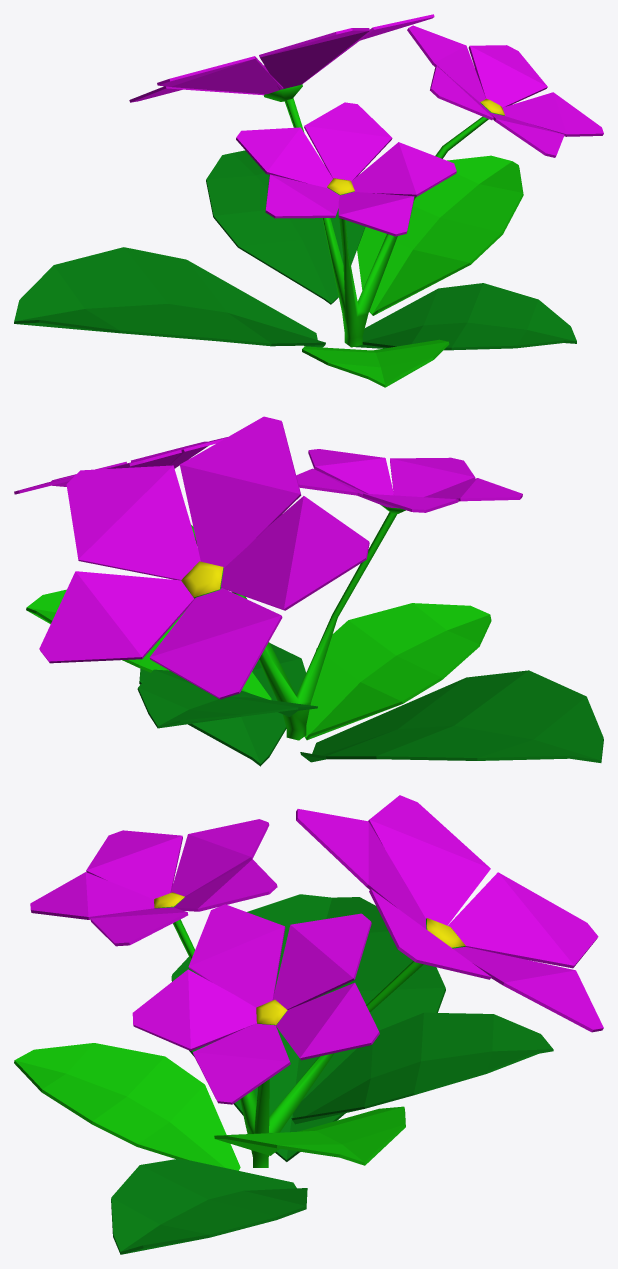
File: Flower09_V2.fbx
The picture shows the model from 3 angles, top to bottom: view 1: azimuth 30°, elevation 25°; view 2: azimuth 150°, elevation 25°; view 3: azimuth 270°, elevation 25°; orthographic projection. The views are drawn at different scales.
Visible parts, largest first — view 1: Cube.005; view 2: Cube.005; view 3: Cube.005.
Boxes of the visible parts, x1,y1,x2,y2 form: Cube.005: (14,14,603,387); Cube.005: (14,416,603,766); Cube.005: (14,795,603,1254).
Bounding box in the file's own units: 67.41 × 37.83 × 53.58.
